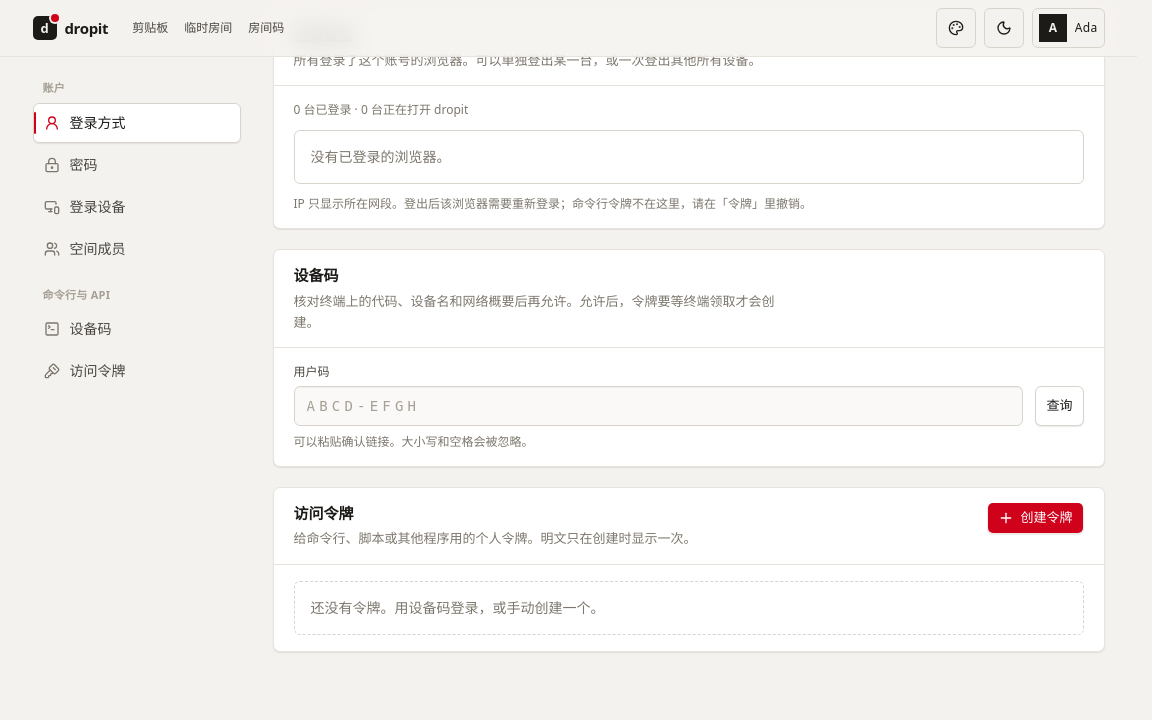
Test: settings and device confirmation › reports an unknown code without echoing the server body
(page scrolled)
Type "ZZZZ-ZZZZ" into the field labelled "用户码".
click(658, 406); type("ZZZZ-ZZZZ")  # box [294,386,1024,426]
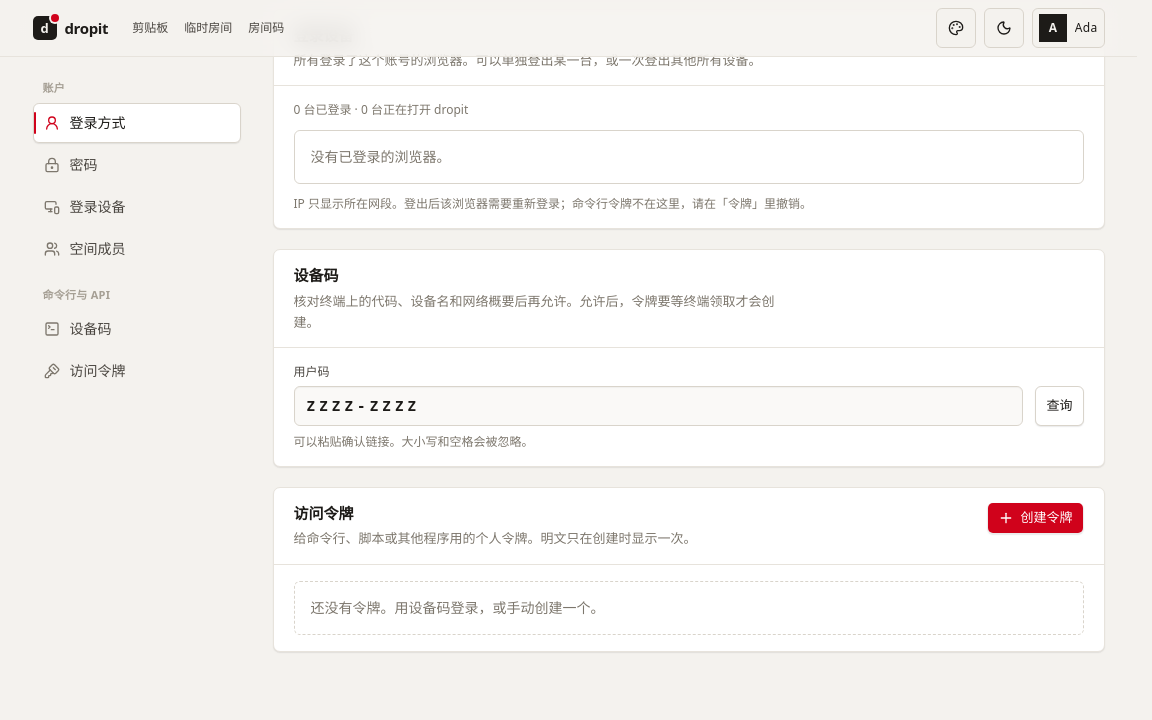
Click the button "查询".
click(1060, 406)  # box [1036,386,1084,426]
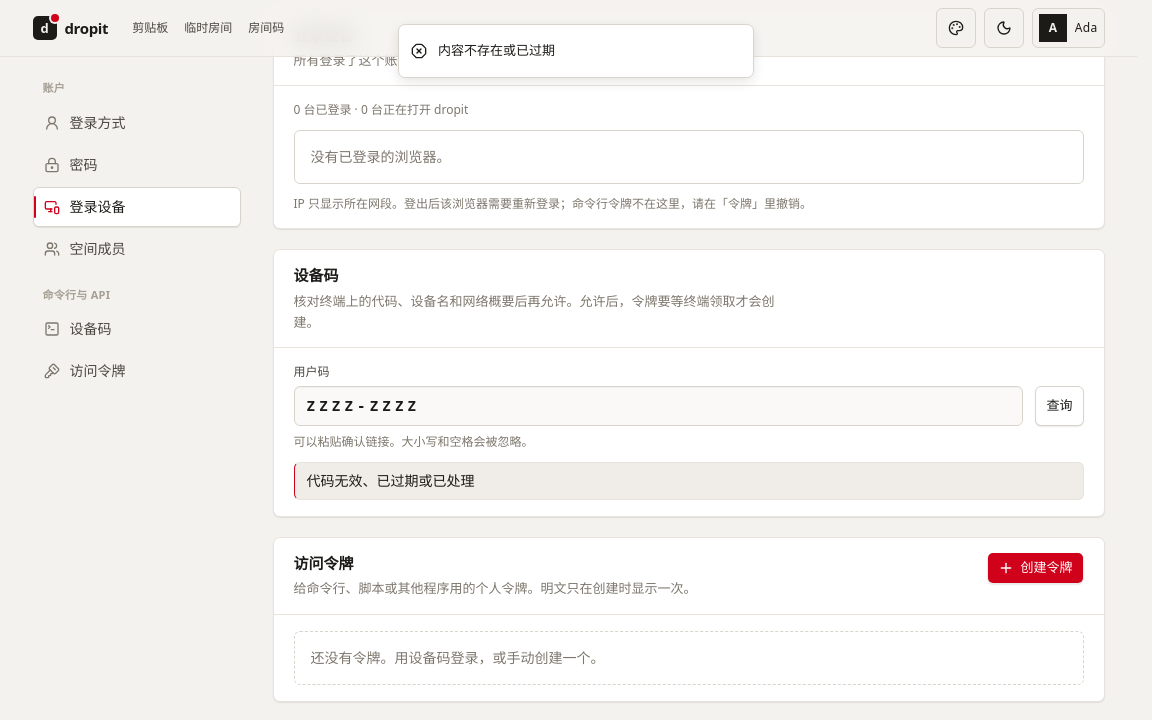
Check: the message reads "代码无效、已过期或已处理", box [306,471,474,490]
